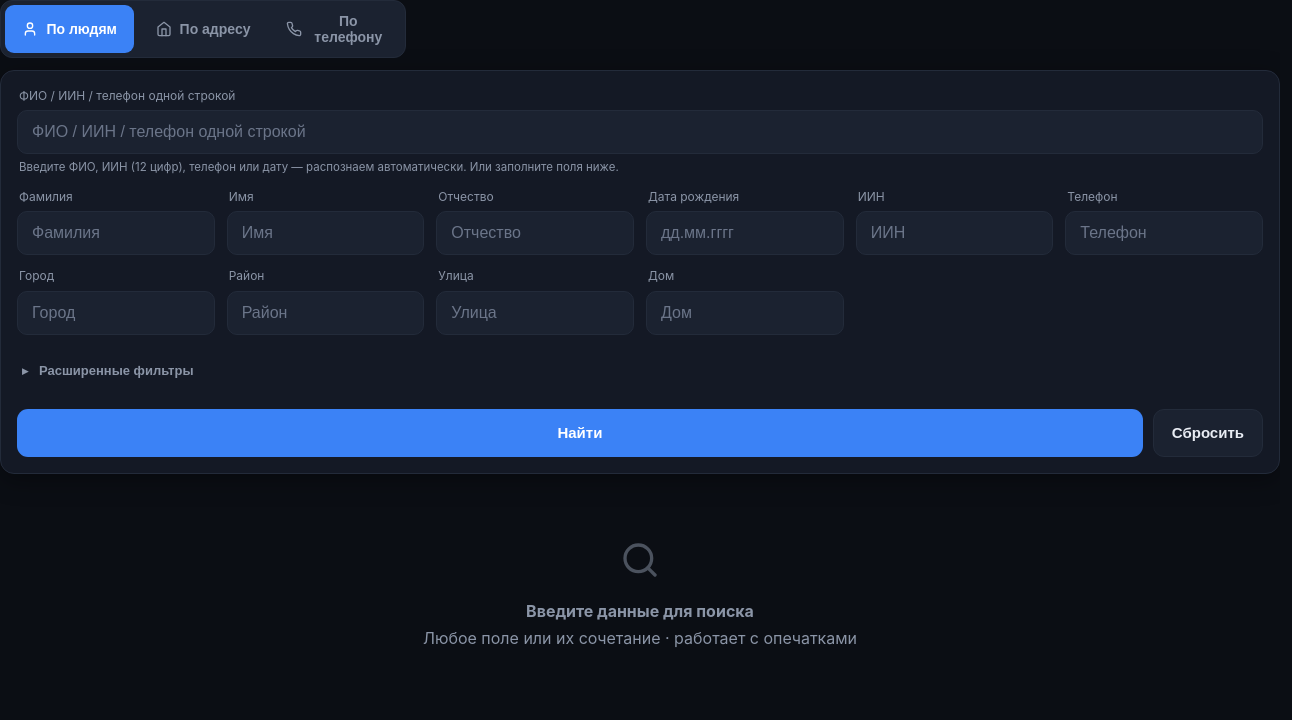
Scenario: SearchPage › показывает пагинацию при множестве страниц
Type "Иванов" into the field with placeholder "ФИО / ИИН / телефон одной строкой".
click(640, 132); type("Иванов")  # box [17, 110, 1263, 154]
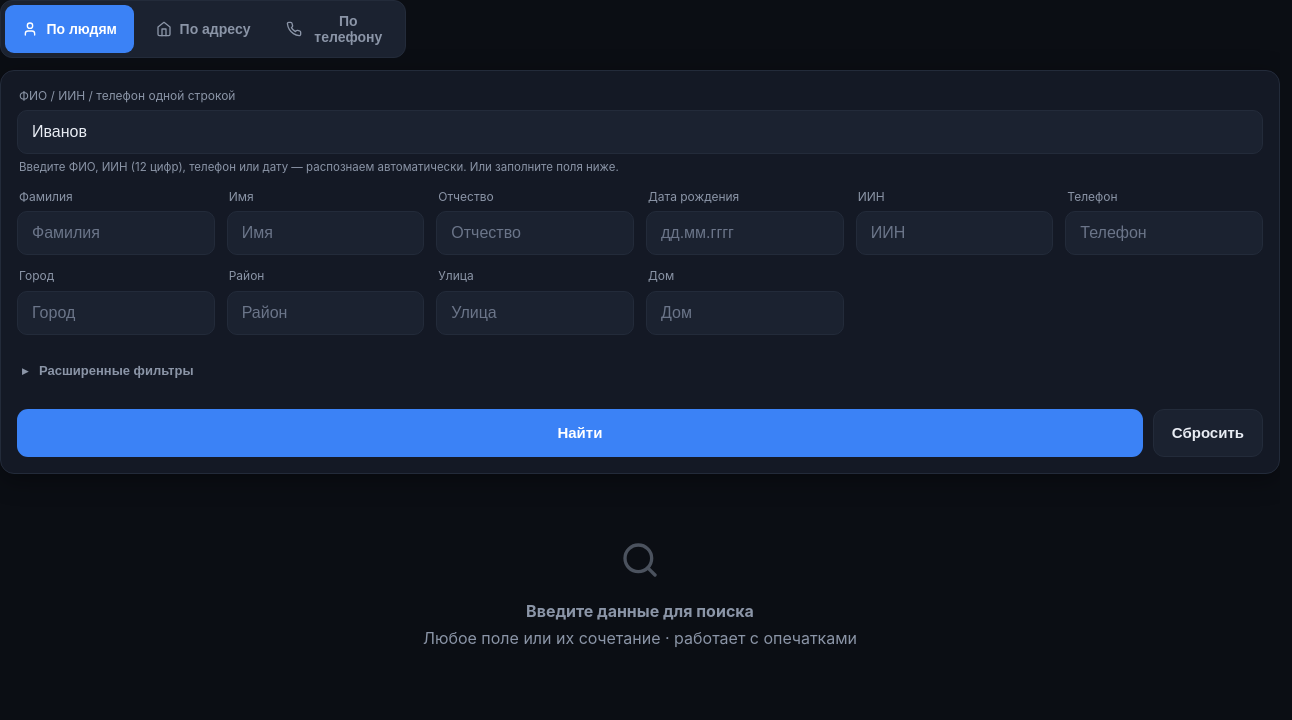
Click the button "Найти".
click(580, 433)  # box [17, 409, 1143, 457]
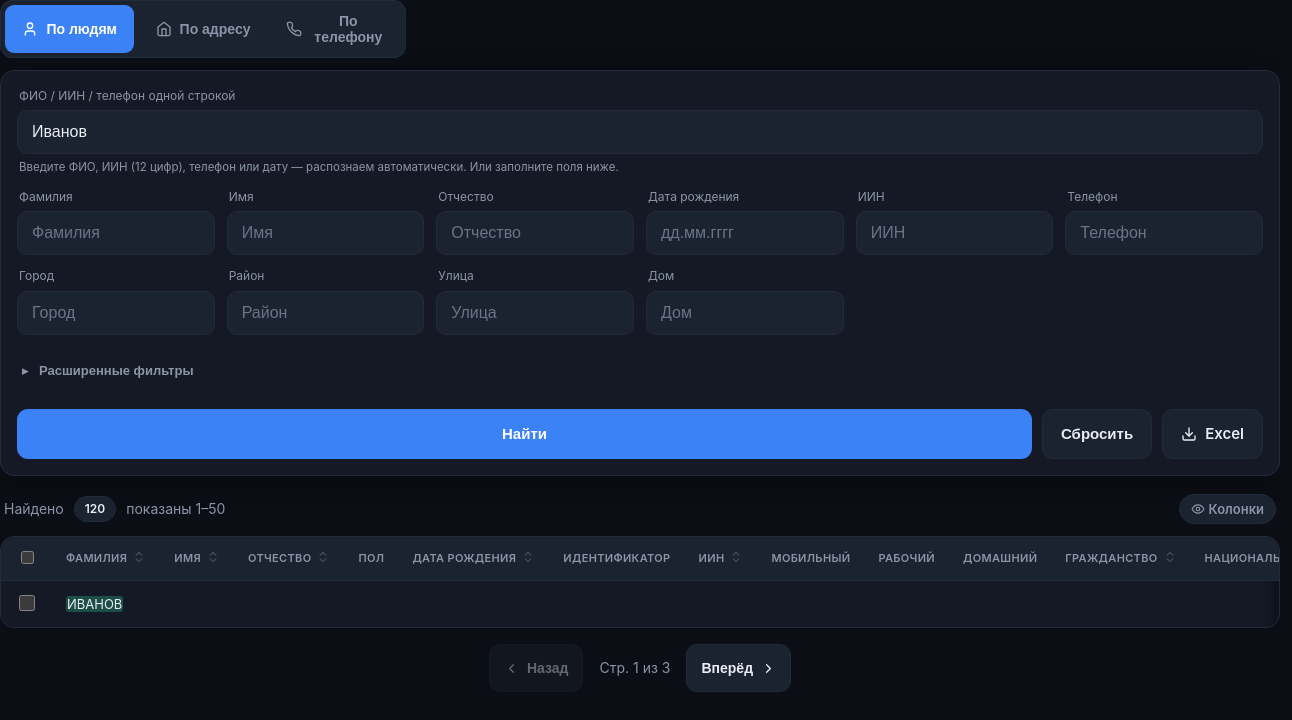
Expected: the text "Стр. 1 из 3" is shown, [600, 658, 670, 678]
